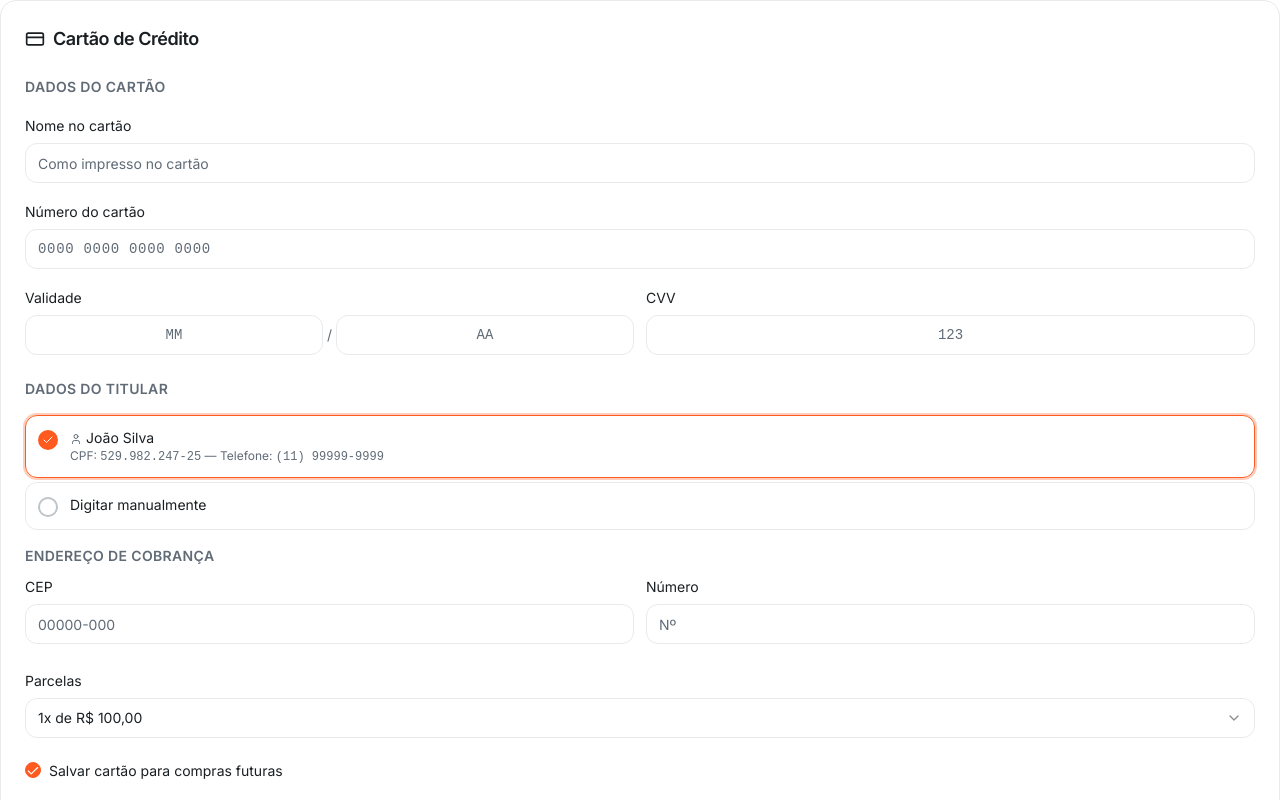
Test: CreditCardForm — seleção "Dados do titular" › ao clicar em "Digitar manualmente", campos de nome/CPF/telefone devem ficar visíveis
# Clicar em "Digitar manualmente"
Click the text "Digitar manualmente" at (138, 504), box [70, 496, 206, 513]
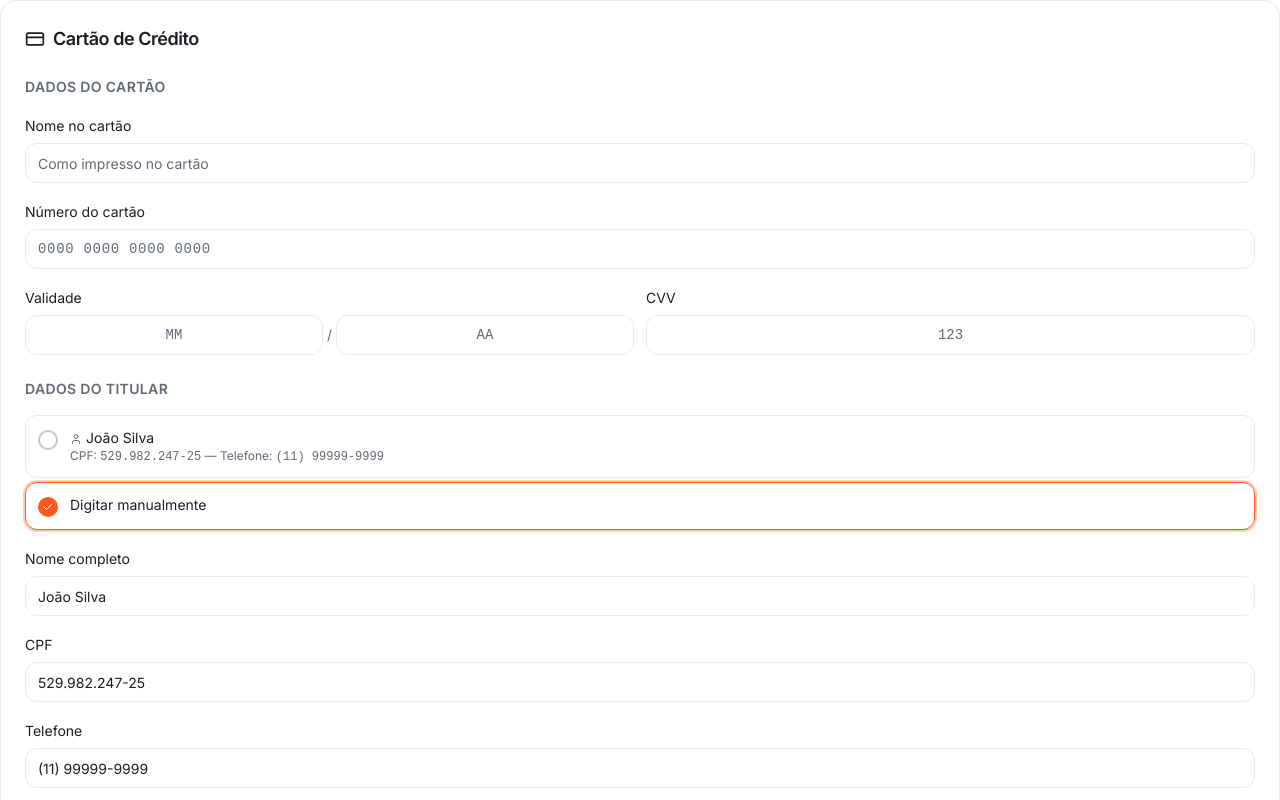
Check: the field with placeholder "Seu nome completo" is shown, box [25, 576, 1255, 616]
Check: the field with placeholder "000.000.000-00" is shown, box [25, 662, 1255, 702]
Check: the field with placeholder "(11) 99999-9999" is shown, box [25, 748, 1255, 788]
